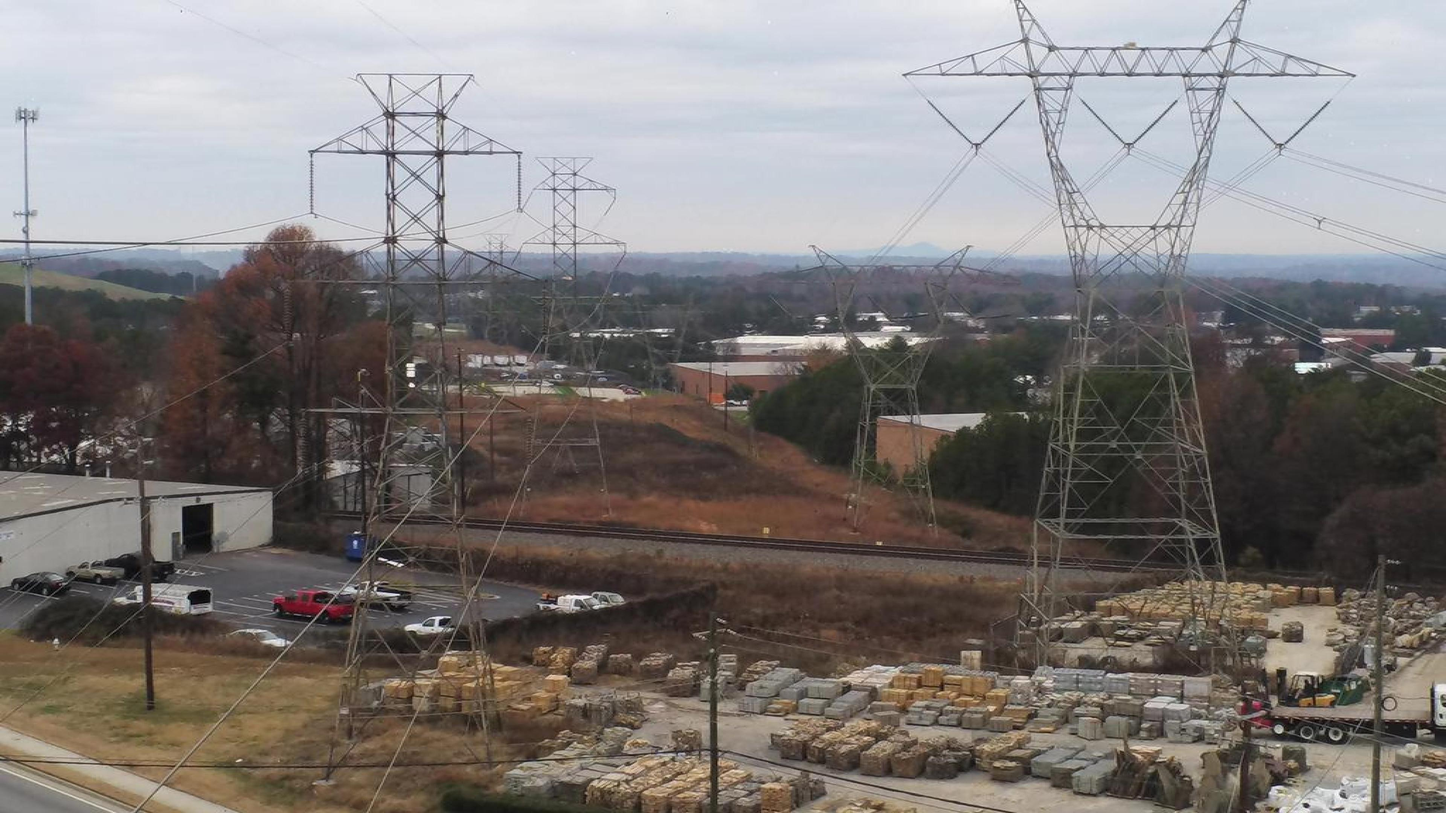power_tower: (904, 0, 1356, 665), (278, 71, 553, 779), (756, 244, 1023, 534), (516, 157, 625, 518), (470, 233, 525, 383), (635, 300, 689, 401)
